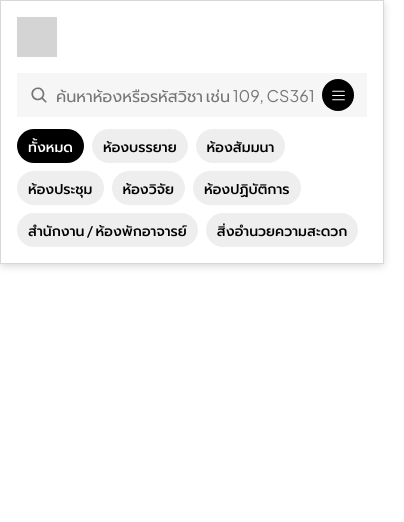
Test case: RoomSearchPanel Component › keeps class room results visible when all matching exams are past
Type "BAS350" into the field with placeholder "ค้นหาห้องหรือรหัสวิชา เช่น 109, CS361" at point(185, 95), box [56,74,314,116]
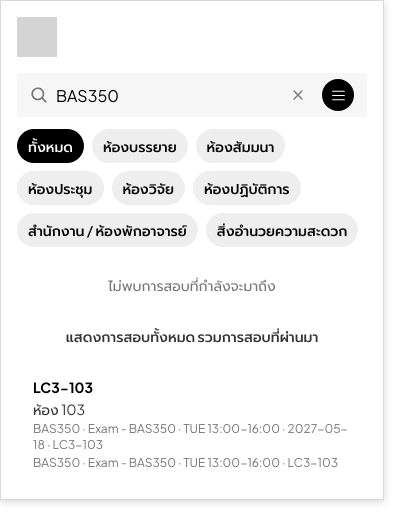
Check: the button "ไม่พบการสอบที่กำลังจะมาถึง" is shown, box [108,276,276,294]
Check: the button "LC3-103" is shown, box [33,377,93,397]
Check: the text "BAS350 · Exam - BAS350 · TUE 13:00-16:00 · LC3-103" is shown, box [33,455,338,471]
